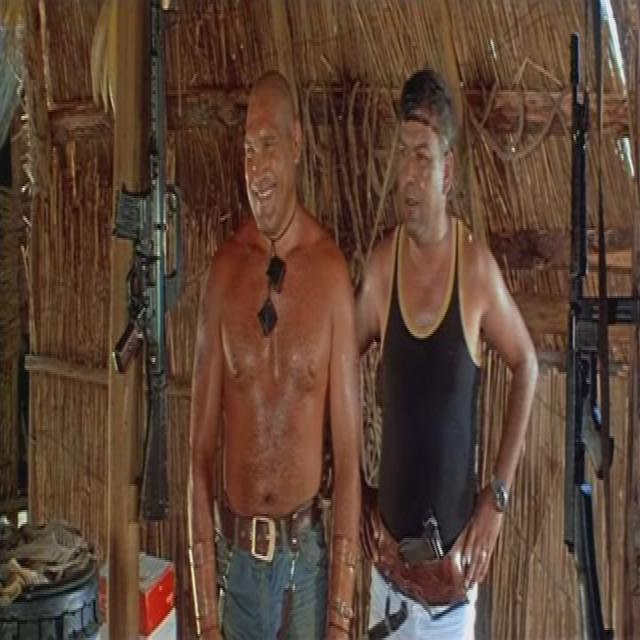gun-knife-thesis - v11 Yolov5 augmented: (112, 0, 203, 520), (557, 20, 615, 622)
